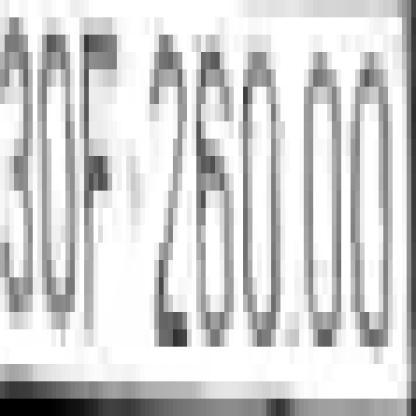0: (346, 52, 388, 347), (299, 52, 341, 329), (38, 35, 80, 312), (238, 52, 276, 329)
2: (150, 35, 187, 329)
3: (5, 35, 37, 312)
6: (196, 52, 229, 329)
F: (79, 17, 117, 295)
